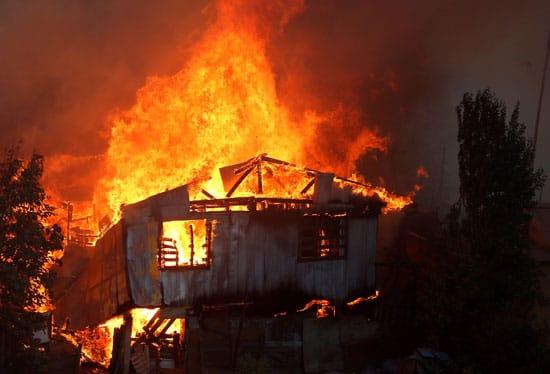Fire: (78, 0, 429, 215), (2, 134, 59, 357), (76, 308, 187, 361), (293, 290, 388, 320), (64, 218, 120, 263), (159, 219, 210, 265)
